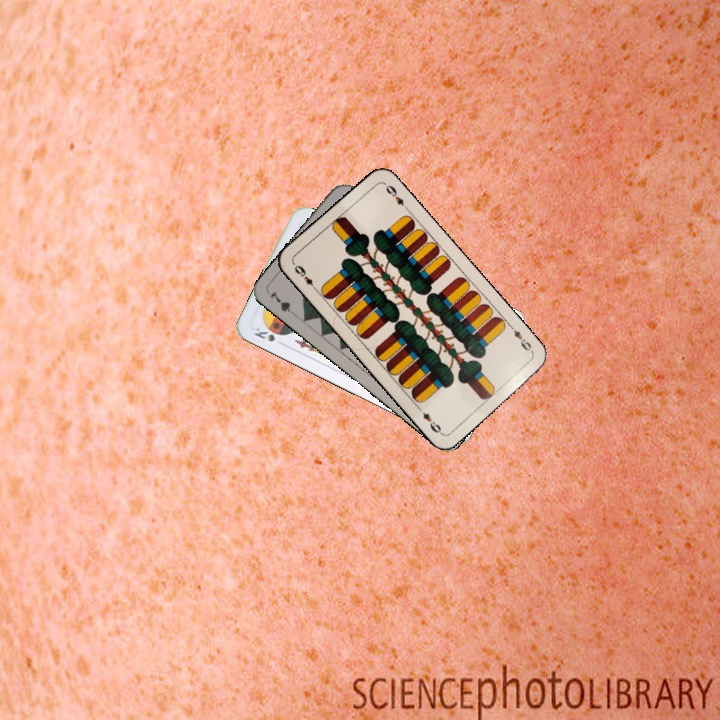E9: (506, 321, 536, 356), (290, 261, 320, 294)
G7: (266, 287, 300, 319)
SK: (250, 323, 288, 348)
